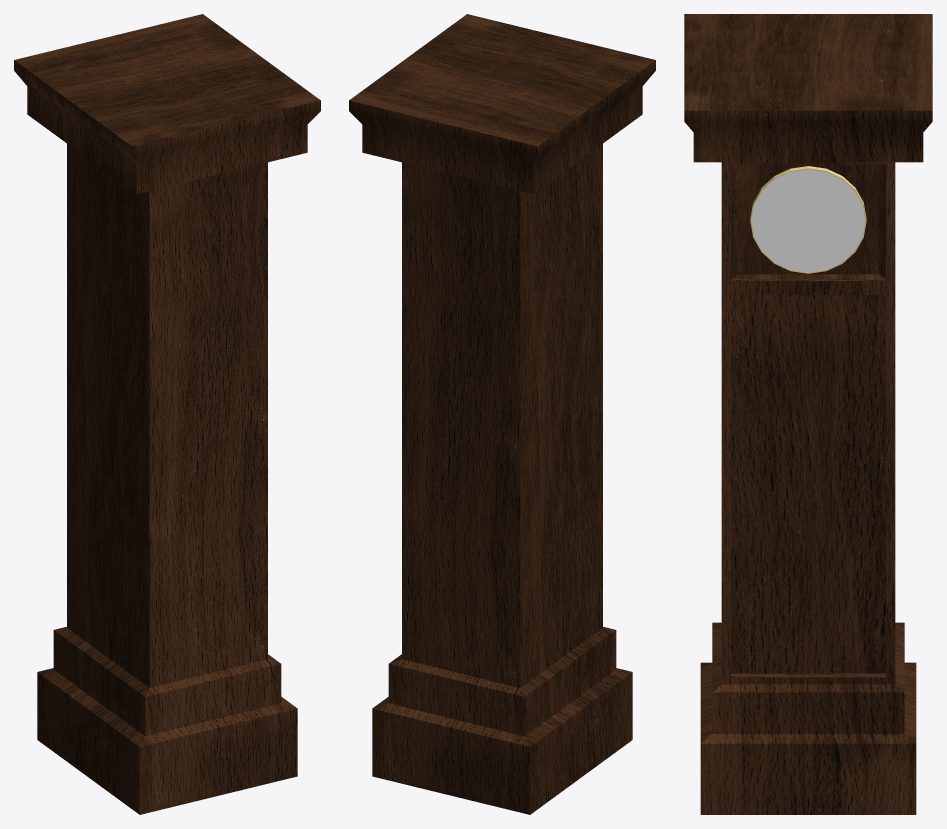
Rendered from relogio.fbx.
3 renders of one model, left to right at view 1: azimuth 30°, elevation 25°; view 2: azimuth 150°, elevation 25°; view 3: azimuth 270°, elevation 25°, orthographic. The views are drawn at different scales.
Visible parts, largest first — view 1: pCube1; view 2: pCube1; view 3: pCube1, pDisc1, pasted__pCylinder1.
Boxes of the visible parts, left/top/right/bottom form: pCube1: left=14, top=14, right=320, bottom=814; pCube1: left=349, top=14, right=655, bottom=814; pCube1: left=684, top=14, right=932, bottom=814; pDisc1: left=751, top=169, right=865, bottom=272; pasted__pCylinder1: left=750, top=166, right=866, bottom=273.
Bounding box in the file's own units: 2.46 × 8.45 × 2.67.
